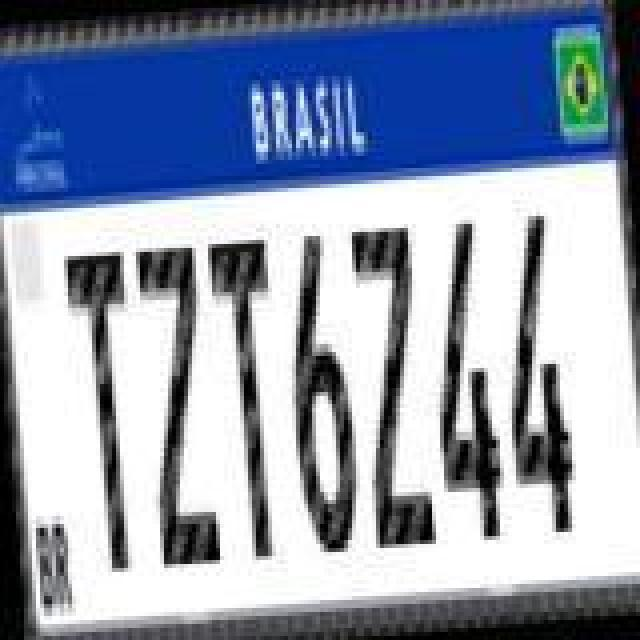4: (418, 212, 510, 548), (490, 208, 582, 544)
6: (274, 226, 366, 558)
T: (202, 230, 294, 562), (62, 244, 154, 572)
Z: (130, 240, 222, 576), (346, 218, 438, 550)
